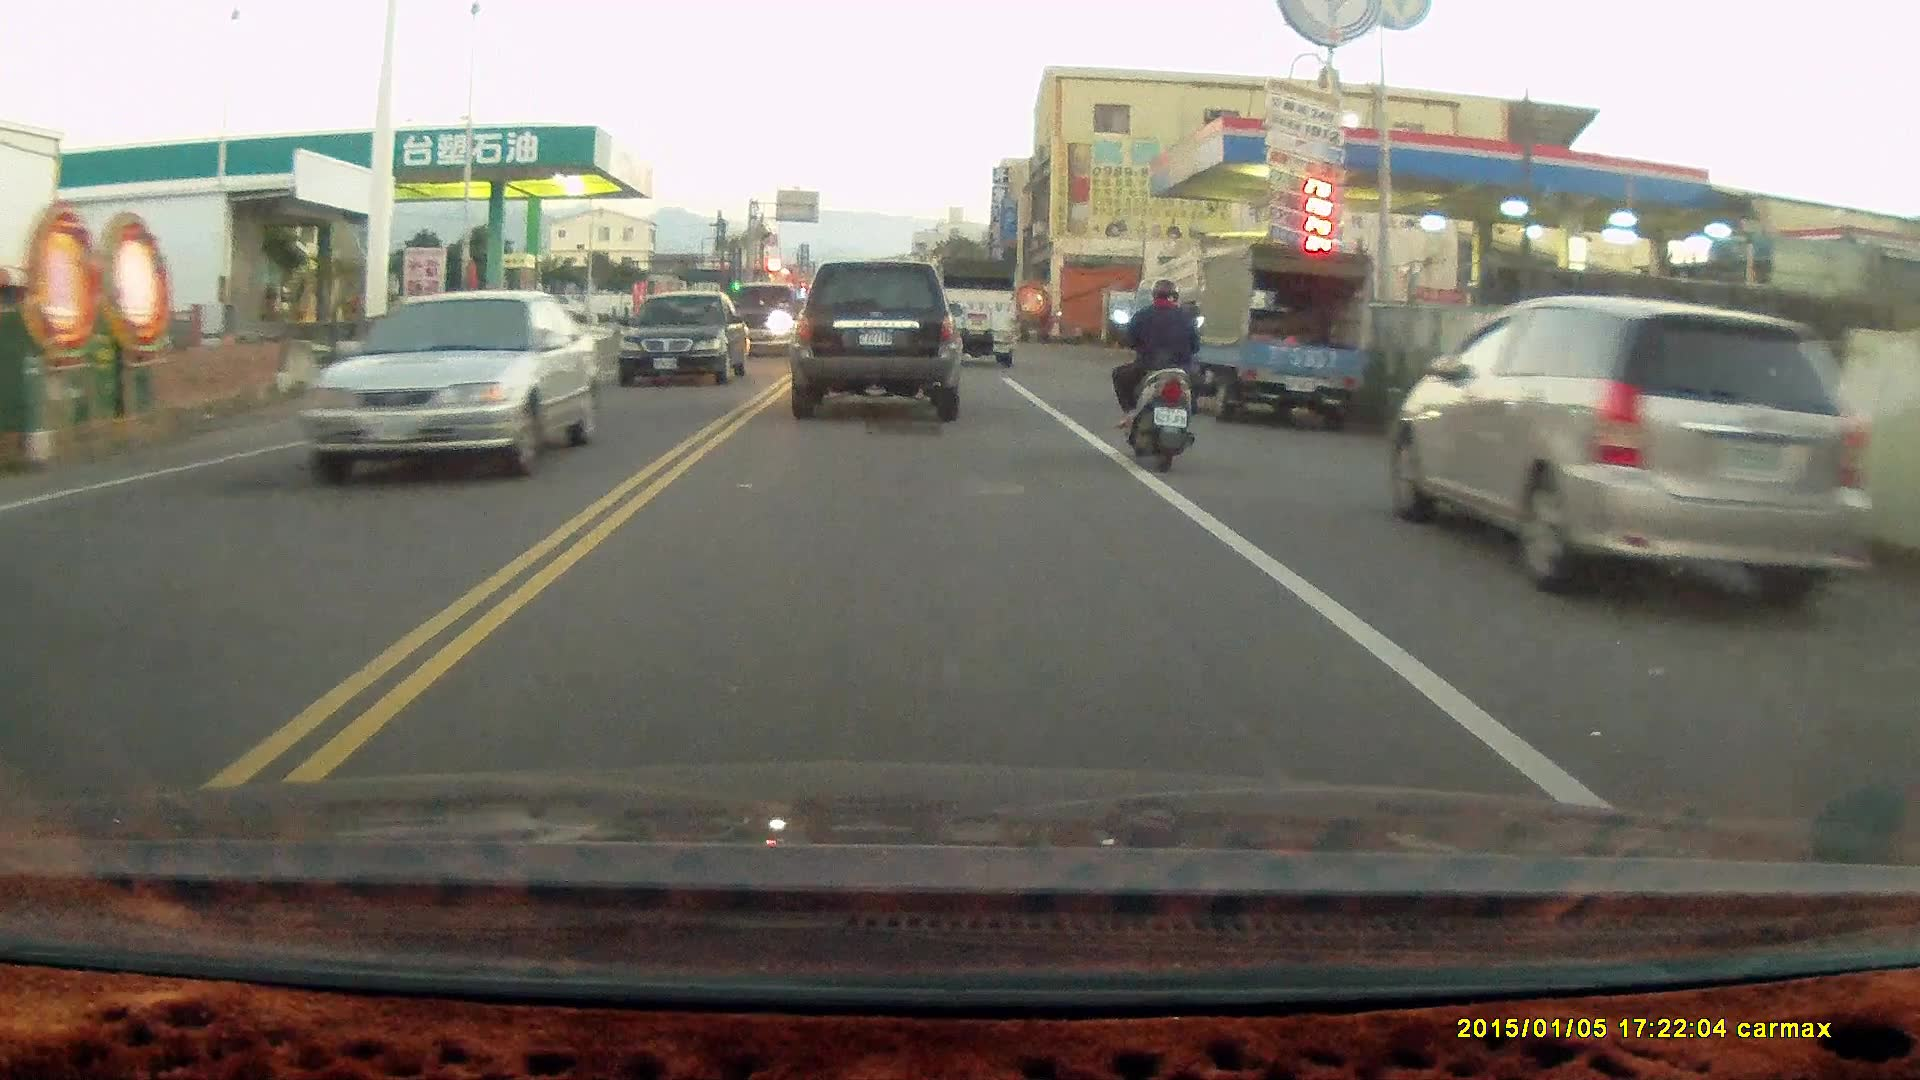rider: (1110, 274, 1211, 470)
vehicle: (1400, 296, 1841, 616), (306, 293, 594, 480), (1175, 246, 1371, 430), (787, 261, 961, 423), (618, 294, 750, 387), (935, 253, 1017, 366)
